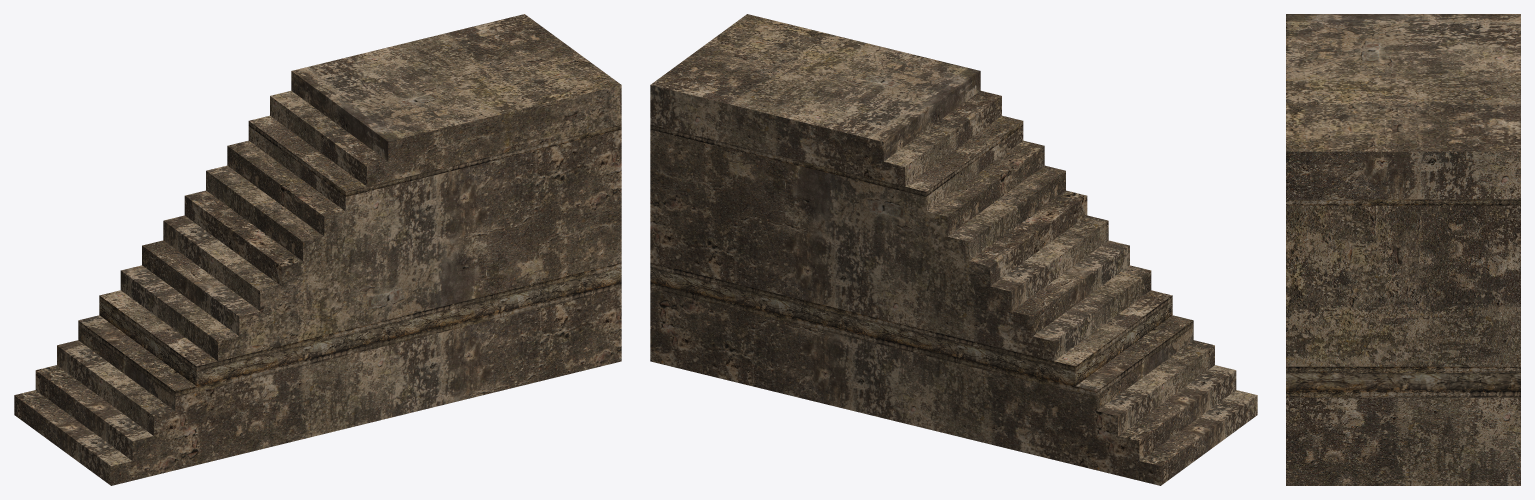
File: materials_5_stairblock_10.fbx
3 views of the same model, side by side, from view 1: azimuth 30°, elevation 25°; view 2: azimuth 150°, elevation 25°; view 3: azimuth 270°, elevation 25° (orthographic). The views are drawn at different scales.
Parts seen in each view (by area): view 1: materials_5_stairblock_10; view 2: materials_5_stairblock_10; view 3: materials_5_stairblock_10.
Part boxes in pixels (x1=…): materials_5_stairblock_10: x1=14, y1=14, x2=621, y2=485; materials_5_stairblock_10: x1=650, y1=14, x2=1257, y2=485; materials_5_stairblock_10: x1=1286, y1=14, x2=1520, y2=485.
Size of the model in its own units: 307 by 159 by 101.
